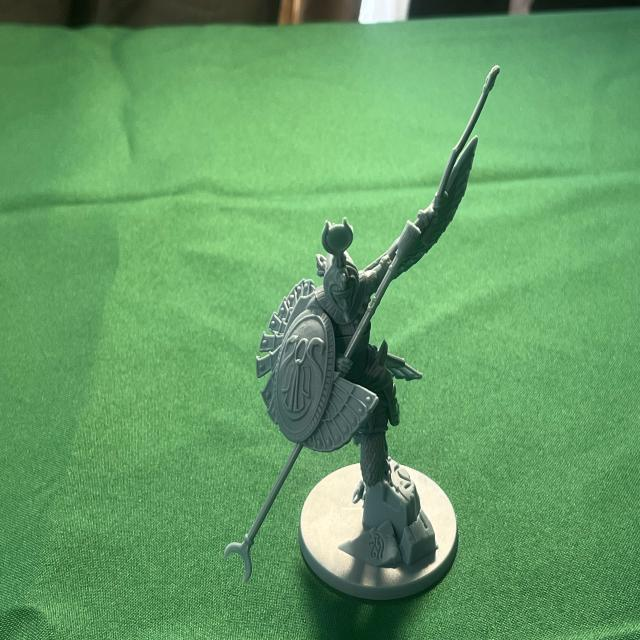isis: (219, 43, 518, 615)
